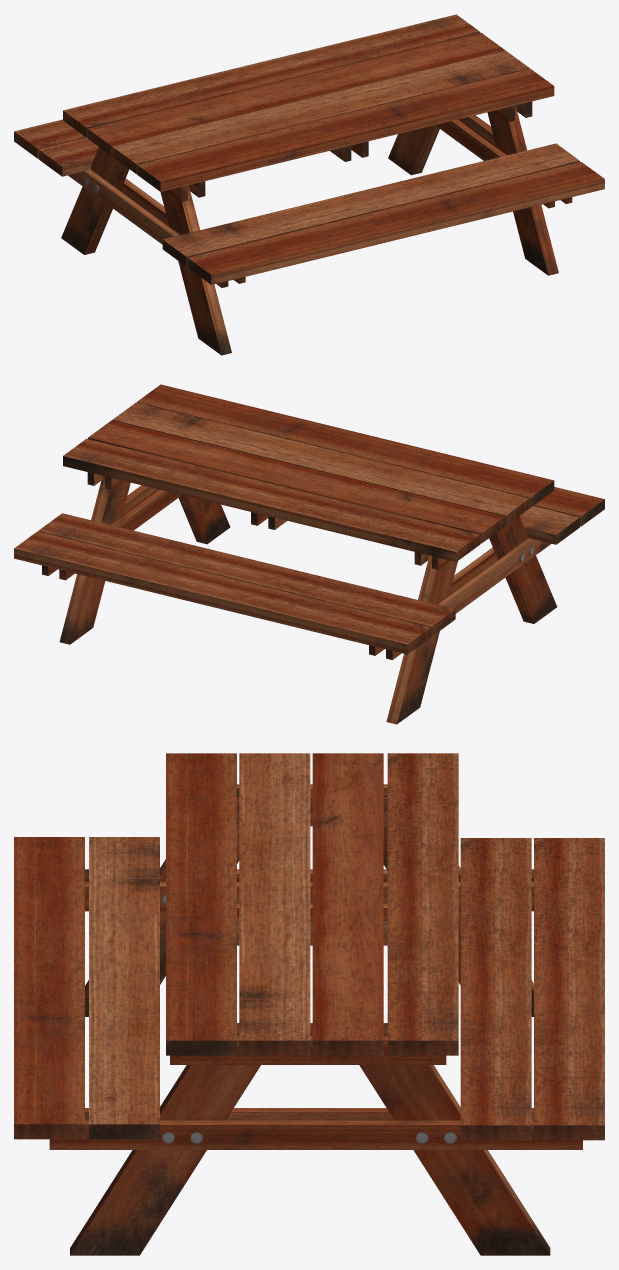
File: park_table.gltf
3 views of the same model, one above another, from view 1: azimuth 30°, elevation 25°; view 2: azimuth 150°, elevation 25°; view 3: azimuth 270°, elevation 25° (orthographic). The views are drawn at different scales.
Parts seen in each view (by area): view 1: g; view 2: g; view 3: g.
Boxes of the visible parts, x1,y1,x2,y2 form: g: [14, 14, 604, 355]; g: [14, 384, 604, 724]; g: [14, 753, 604, 1255].
Bounding box in the file's own units: 2 × 0.7632 × 1.74.
Materials: 1 (1 with a texture image).
